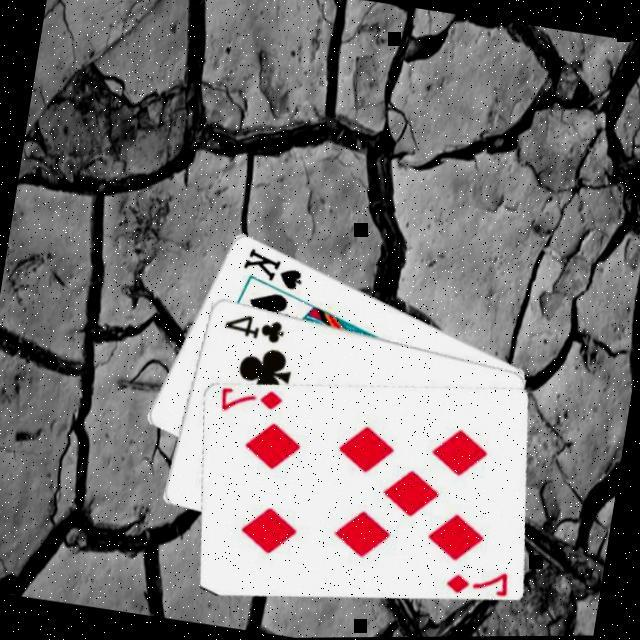4C: (221, 307, 291, 347)
7D: (218, 379, 289, 421), (443, 560, 514, 602)
KS: (239, 242, 312, 294)
